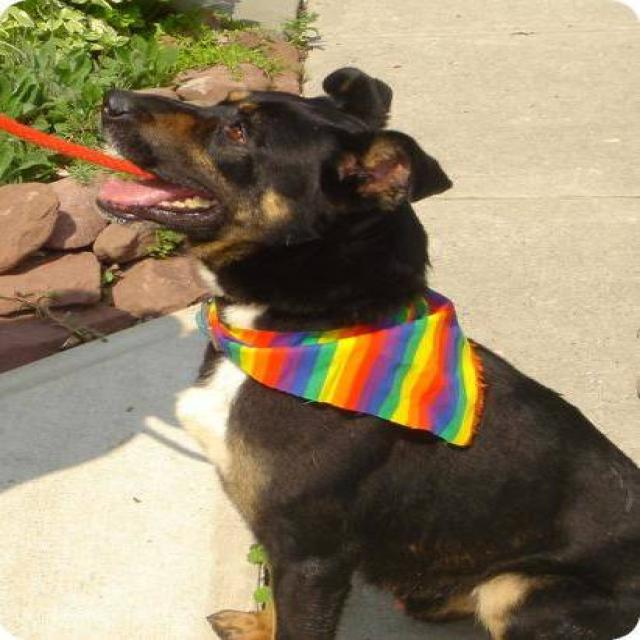dog: (94, 65, 638, 639)
